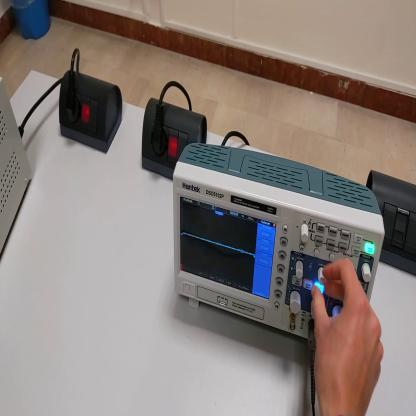hand: (311, 260, 384, 416)
oscilloscope: (172, 143, 385, 341)
power supply: (1, 64, 35, 257)
socket: (57, 67, 126, 156), (144, 93, 211, 180)
